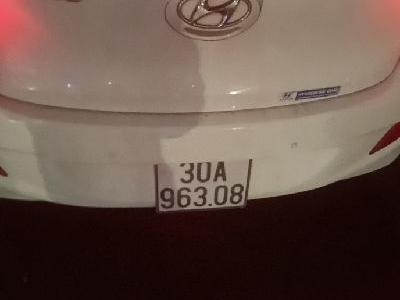car: (155, 156, 251, 212)
